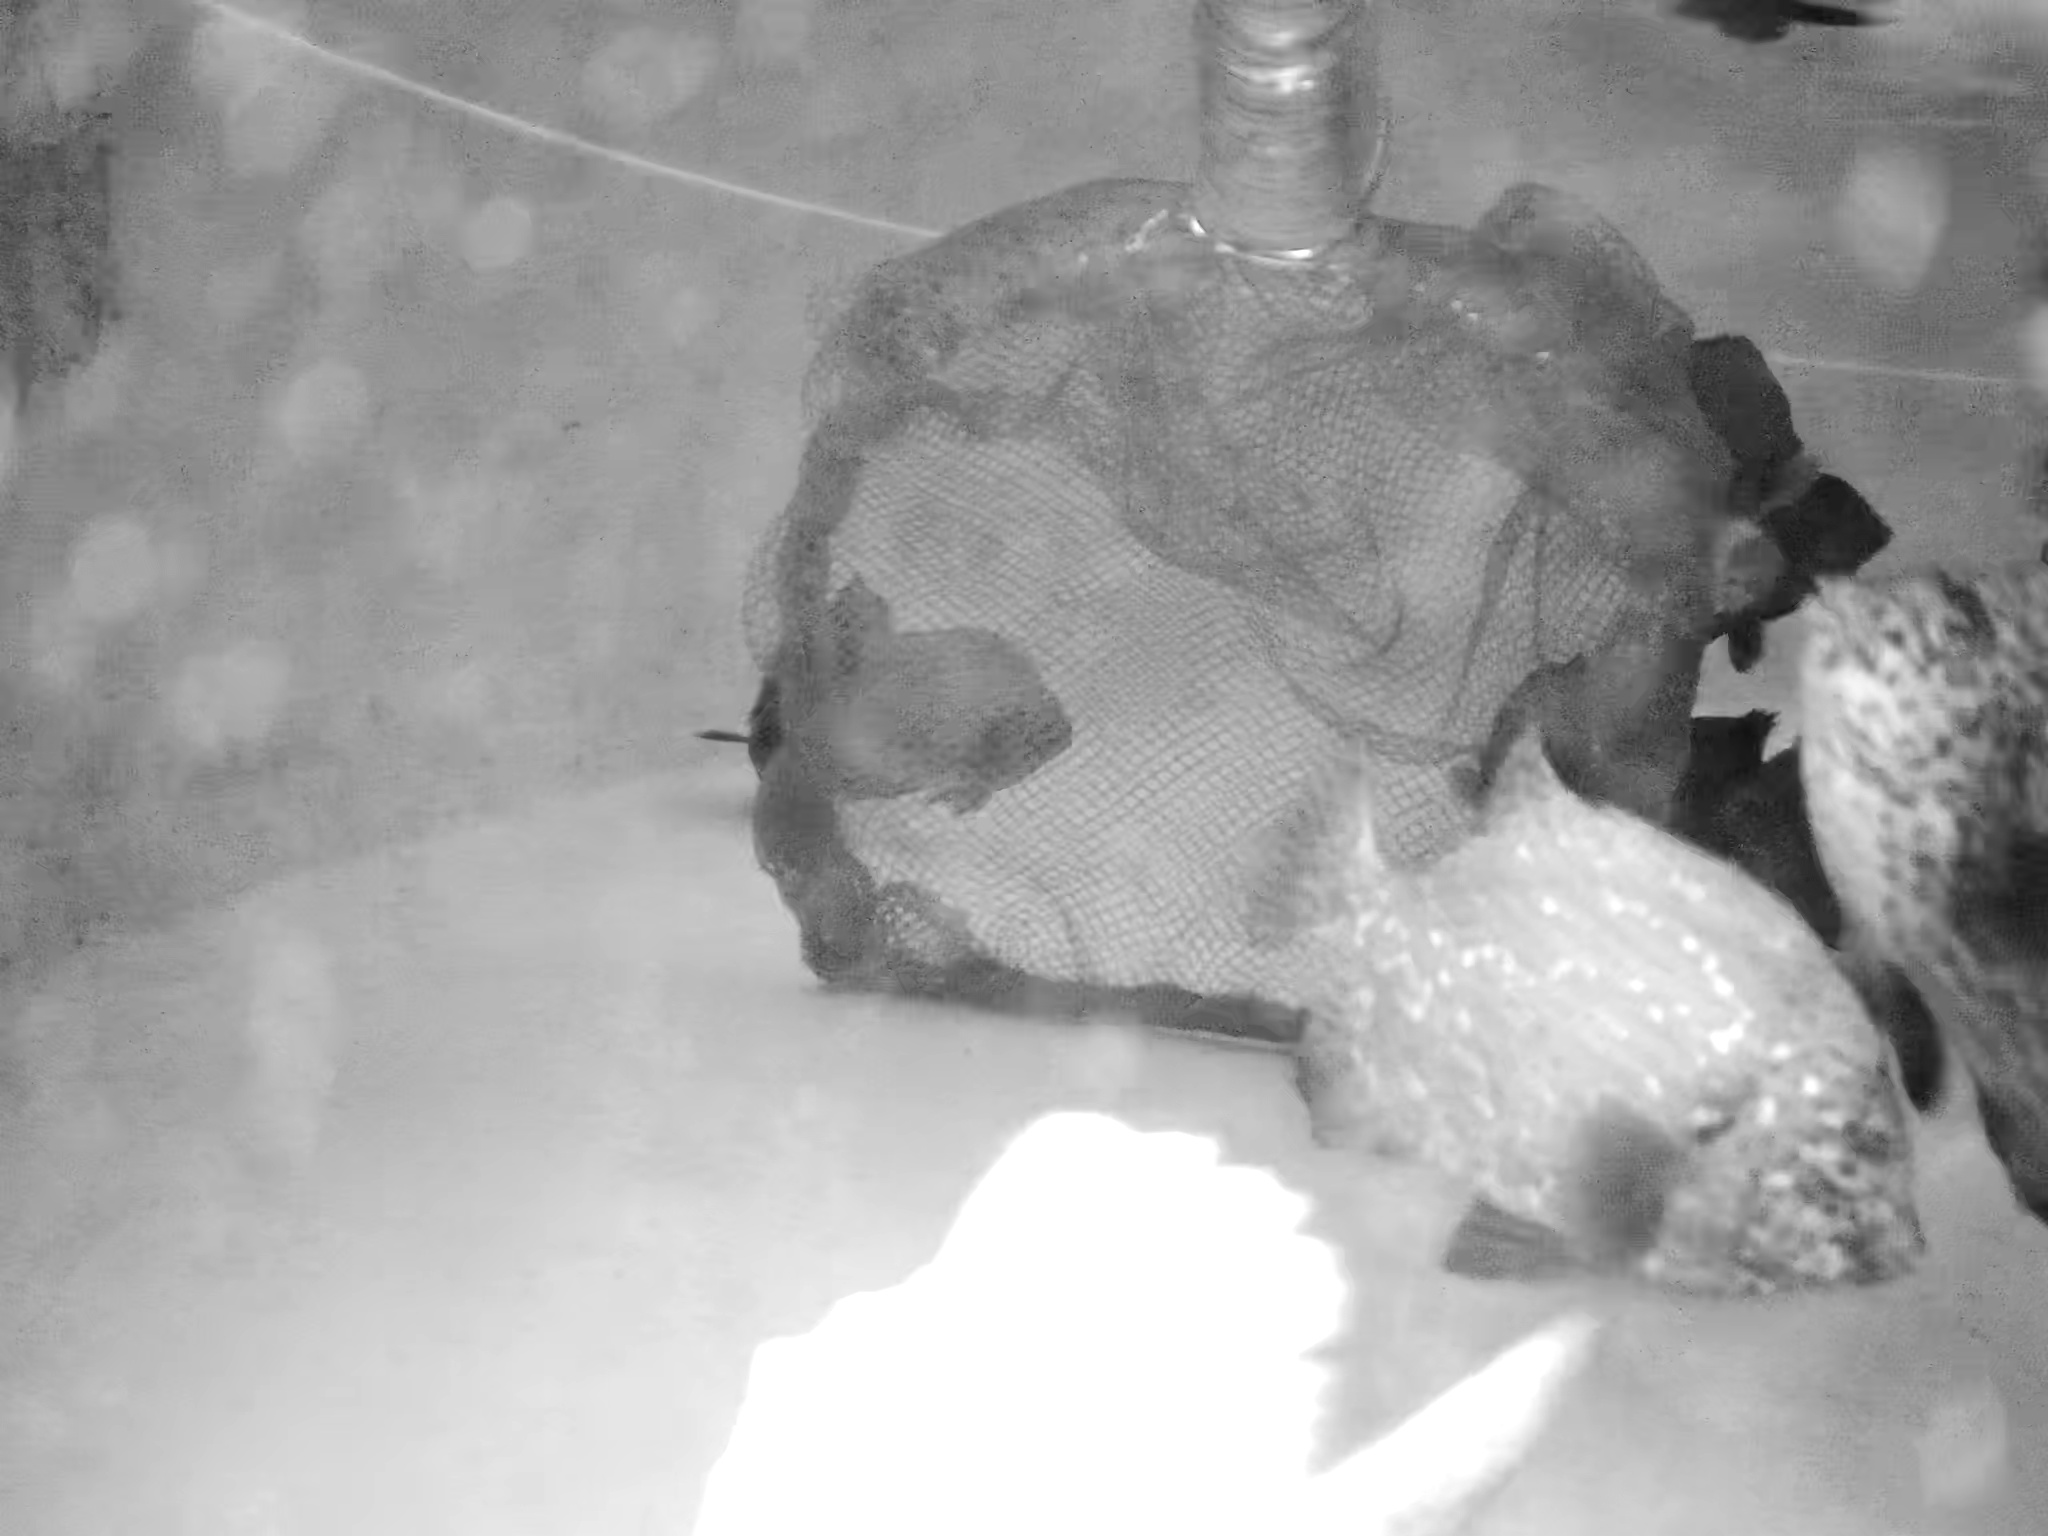fish: (1264, 742, 1959, 1310), (1804, 529, 2048, 1233), (735, 592, 1072, 807)
